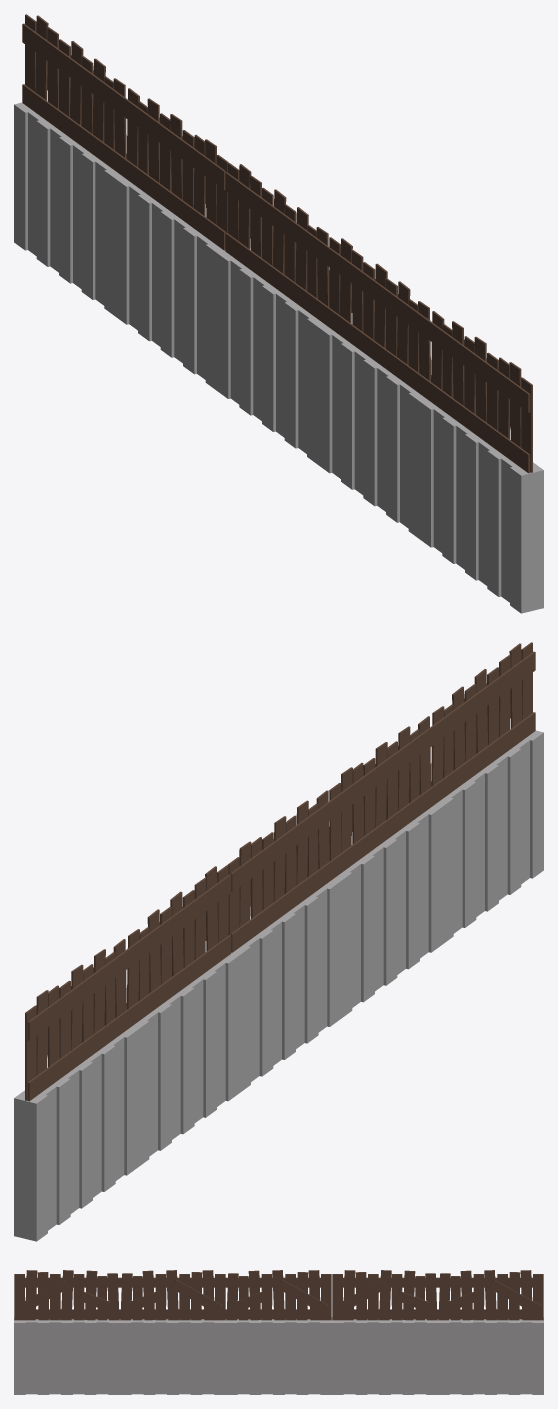
File: SiteWall5Sections.fbx
3 views of the same model, one above another, from view 1: azimuth 30°, elevation 25°; view 2: azimuth 150°, elevation 25°; view 3: azimuth 270°, elevation 25° (orthographic). The views are drawn at different scales.
Visible parts, largest first — view 1: Cube.003; view 2: Cube.003; view 3: Cube.003.
Part boxes in pixels (x1,y1,x2,y2): Cube.003: (14, 14, 543, 613); Cube.003: (14, 642, 543, 1241); Cube.003: (14, 1270, 543, 1394).
Bounding box in the file's own units: 25.89 × 253 × 1000.
